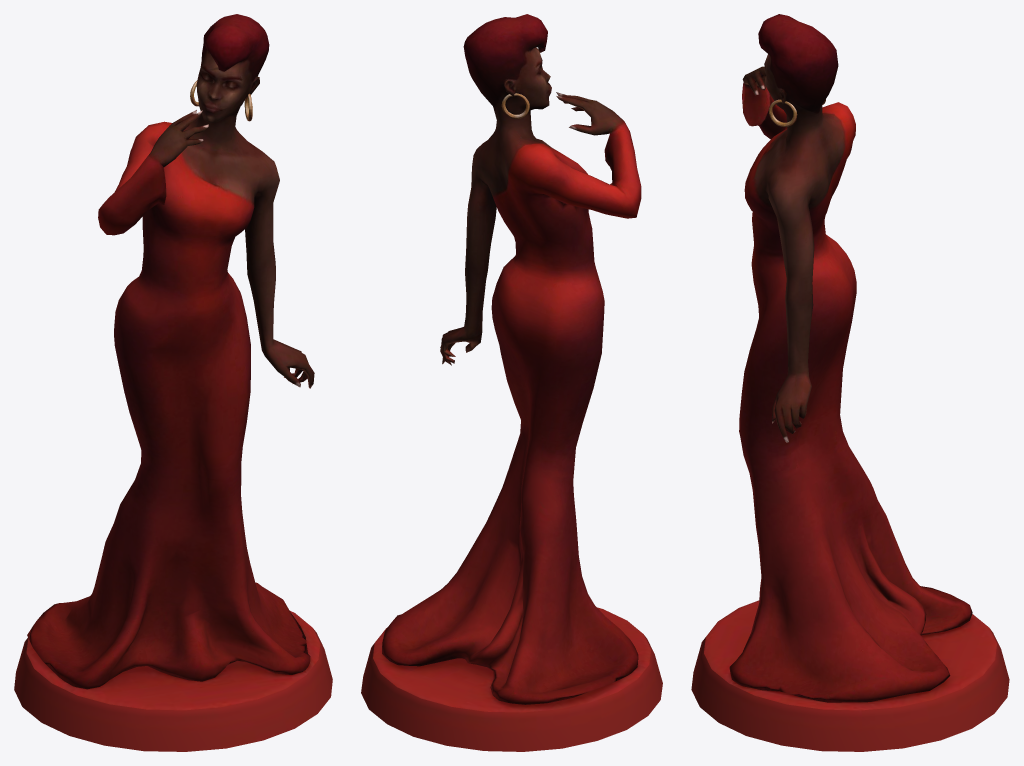
The model's file is crimson_alt.obj.
3 renders of one model, left to right at view 1: azimuth 30°, elevation 25°; view 2: azimuth 150°, elevation 25°; view 3: azimuth 270°, elevation 25°, orthographic. The views are drawn at different scales.
Visible parts, largest first — view 1: scarletAlt_0; view 2: scarletAlt_0; view 3: scarletAlt_0.
Part boxes in pixels (bbox=[...]): scarletAlt_0: bbox=[14, 14, 332, 751]; scarletAlt_0: bbox=[361, 14, 662, 751]; scarletAlt_0: bbox=[691, 14, 1009, 751].
Bounding box in the file's own units: 0.794 × 1.87 × 0.794.
